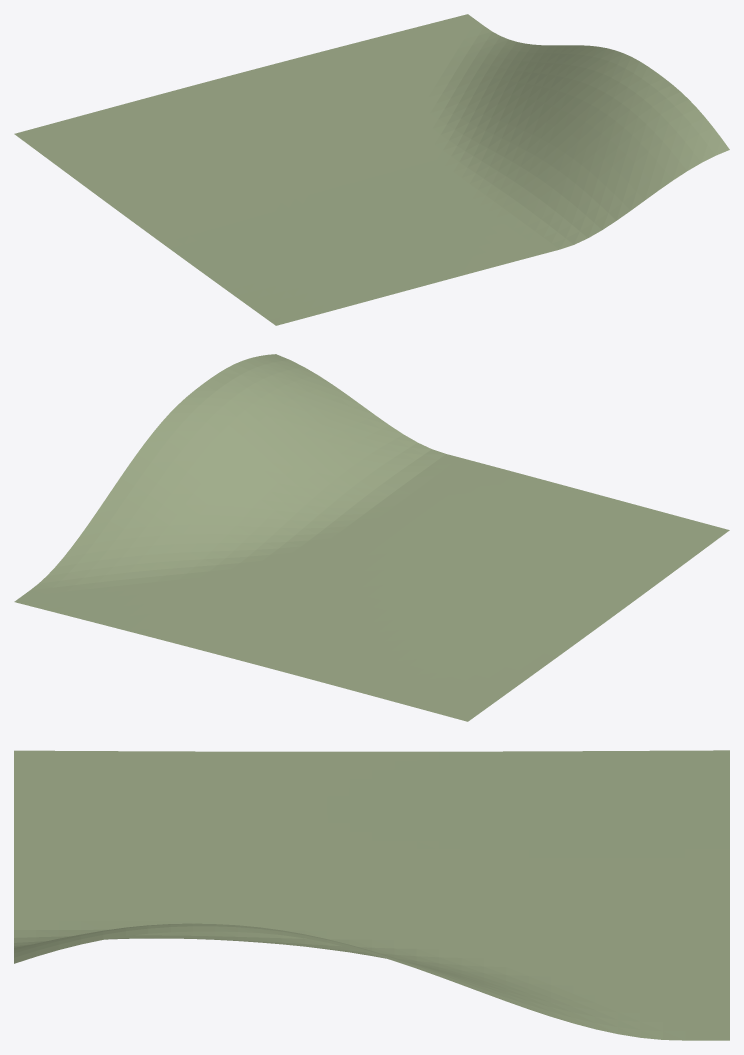
File: desert-21-28.glb
3 views of the same model, one above another, from view 1: azimuth 30°, elevation 25°; view 2: azimuth 150°, elevation 25°; view 3: azimuth 270°, elevation 25° (orthographic). The views are drawn at different scales.
Visible parts, largest first — view 1: desert-21-28; view 2: desert-21-28; view 3: desert-21-28.
Boxes of the visible parts, x1,y1,x2,y2 form: desert-21-28: [14, 14, 729, 325]; desert-21-28: [14, 354, 729, 721]; desert-21-28: [14, 750, 729, 1040].
Bounding box in the file's own units: 512 × 96.89 × 512.
